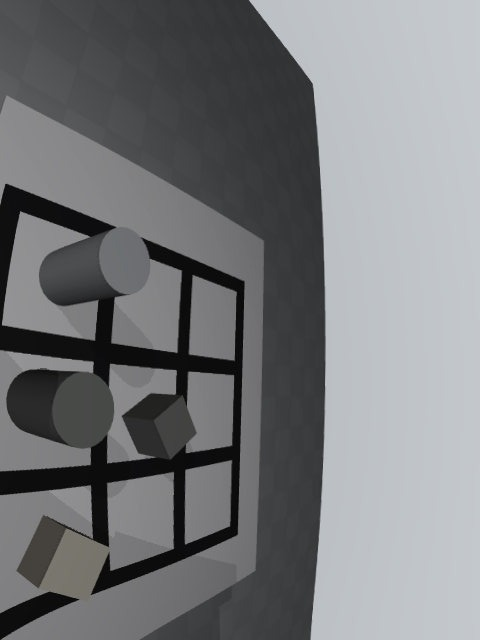can: (39, 227, 150, 306)
cube: (122, 394, 196, 459)
cylinder: (6, 369, 114, 449)
foam: (16, 515, 110, 601)
